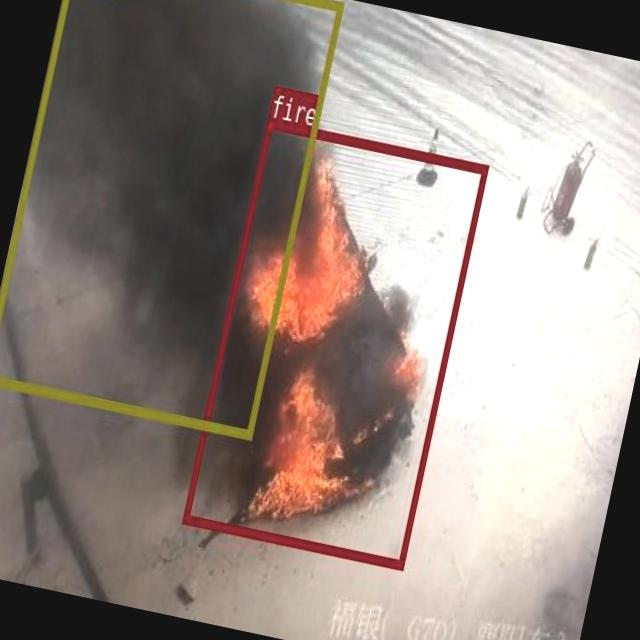fire: (181, 117, 487, 568)
smoke: (0, 0, 343, 438)
